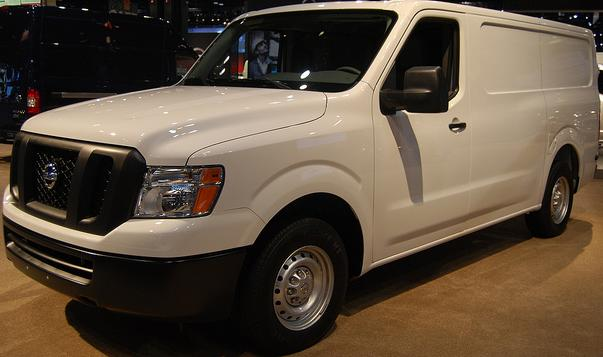front_view: (3, 137, 267, 324)
headlight: (125, 144, 246, 232)
side_glass: (380, 14, 553, 106)
